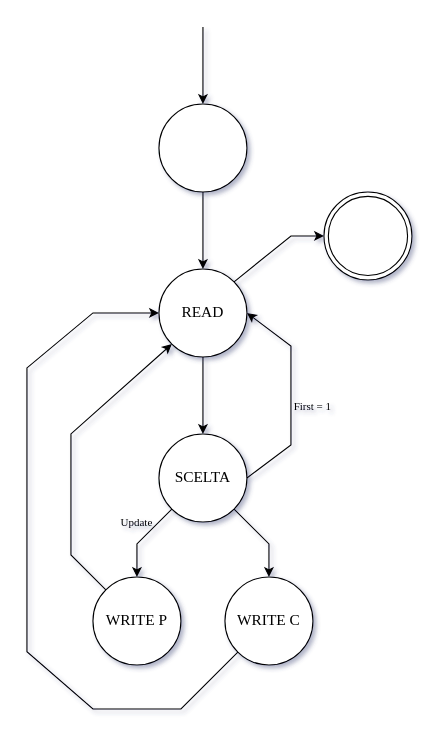
The diagram is 438 pixels wide and 744 high, and some of its shapes have lost their labels. The box of each missing label's shape, as (x1, y1, x2, y2) in pixels:
DONE: (323, 191, 412, 280)
INIT: (158, 103, 247, 192)
